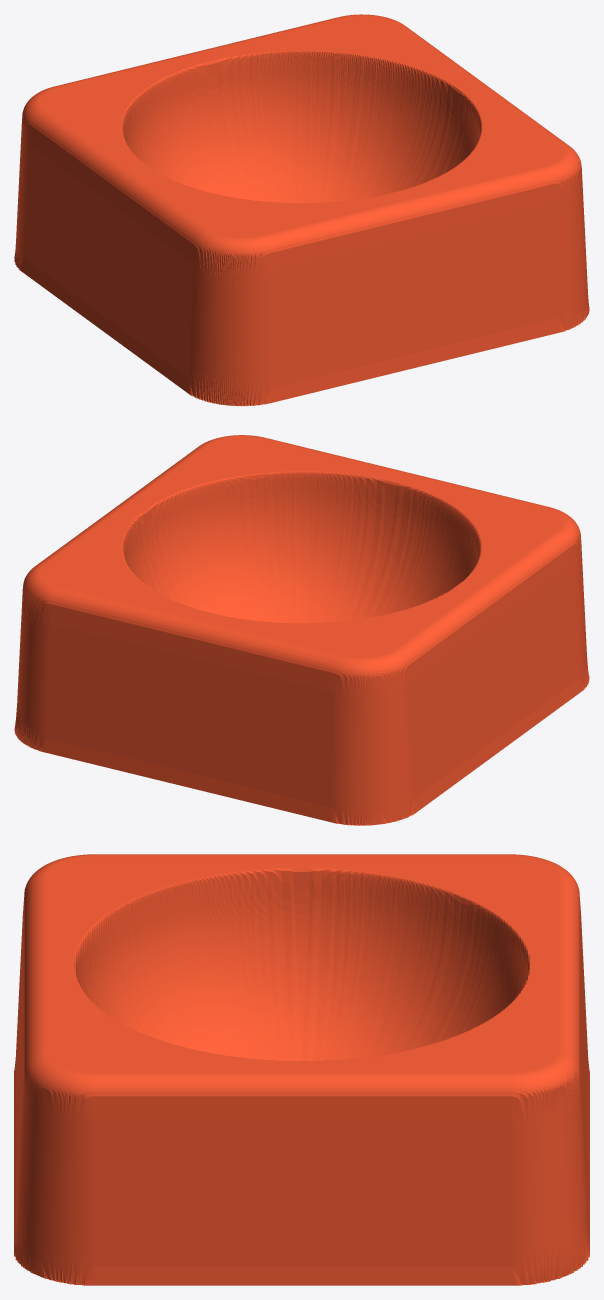
Rendered from mold.glb.
The picture shows the model from 3 angles, top to bottom: view 1: azimuth 30°, elevation 25°; view 2: azimuth 150°, elevation 25°; view 3: azimuth 270°, elevation 25°; orthographic projection. The views are drawn at different scales.
Parts seen in each view (by area): view 1: geometry_0; view 2: geometry_0; view 3: geometry_0.
Boxes of the visible parts, x1,y1,x2,y2 form: geometry_0: (14,14,589,406); geometry_0: (14,435,589,825); geometry_0: (14,854,589,1285).
Size of the model in its own units: 0.065 by 0.0248 by 0.065.
